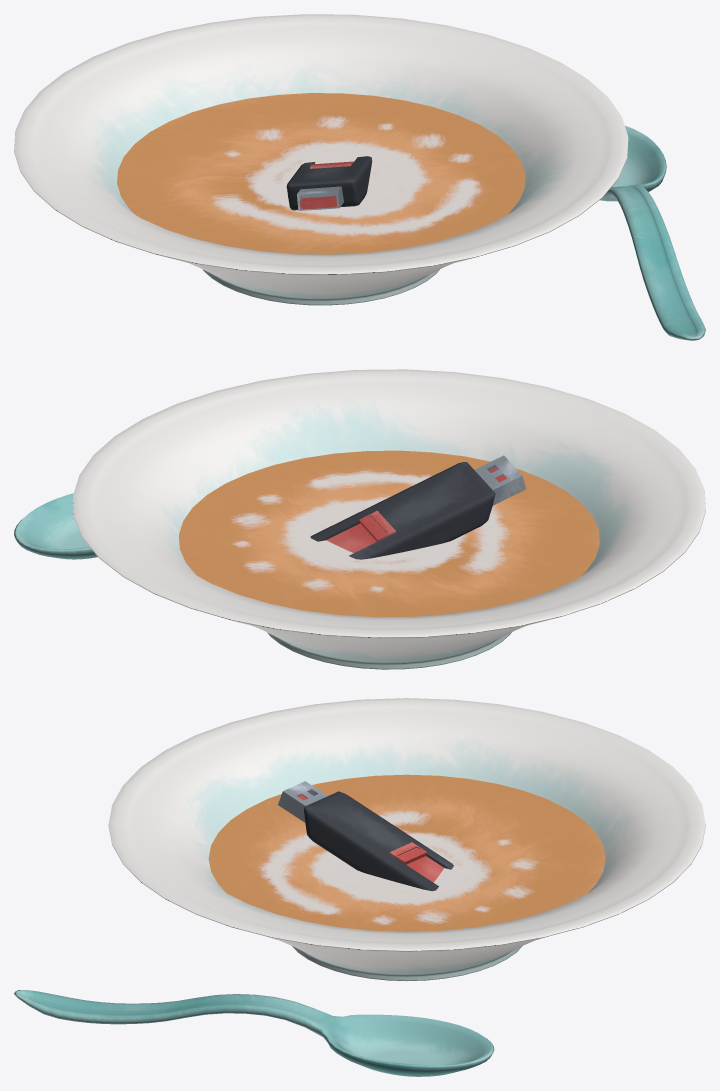
The model's file is FloppyBisque.fbx.
3 renders of one model, top to bottom at view 1: azimuth 30°, elevation 25°; view 2: azimuth 150°, elevation 25°; view 3: azimuth 270°, elevation 25°, orthographic. The views are drawn at different scales.
Parts seen in each view (by area): view 1: polySurface2, polySurface7; view 2: polySurface2, polySurface7; view 3: polySurface2, polySurface7.
Part boxes in pixels (x1,y1,x2,y2): polySurface2: [14, 14, 705, 340]; polySurface7: [286, 156, 372, 210]; polySurface2: [14, 369, 705, 669]; polySurface7: [310, 455, 526, 559]; polySurface2: [14, 698, 705, 1076]; polySurface7: [278, 781, 453, 891].
Bounding box in the file's own units: 23.18 × 4.41 × 23.62.
Materials: 6 (6 with a texture image).
